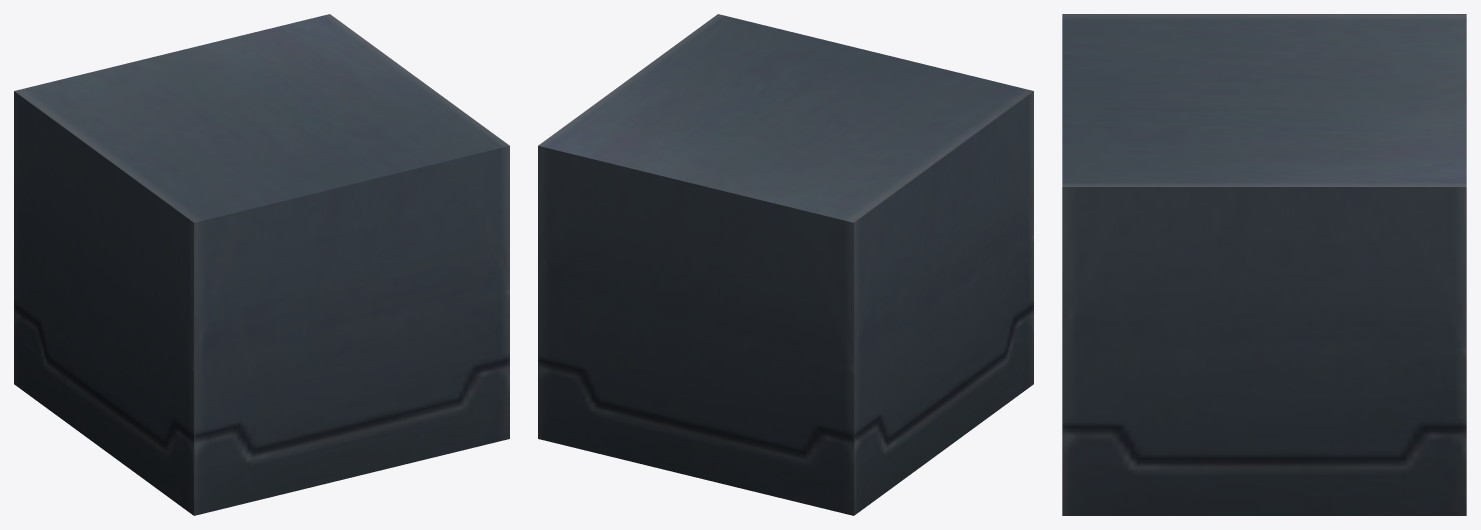
The picture shows the model from 3 angles, left to right: view 1: azimuth 30°, elevation 25°; view 2: azimuth 150°, elevation 25°; view 3: azimuth 270°, elevation 25°; orthographic projection. The views are drawn at different scales.
Visible parts, largest first — view 1: ts_box001; view 2: ts_box001; view 3: ts_box001.
Part boxes in pixels (x1=…): ts_box001: x1=14, y1=14, x2=509, y2=515; ts_box001: x1=538, y1=14, x2=1033, y2=515; ts_box001: x1=1062, y1=14, x2=1466, y2=515.
Bounding box in the file's own units: 0.5049 × 0.4477 × 0.4984.
